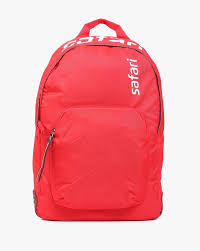backpack: (32, 17, 164, 221)
